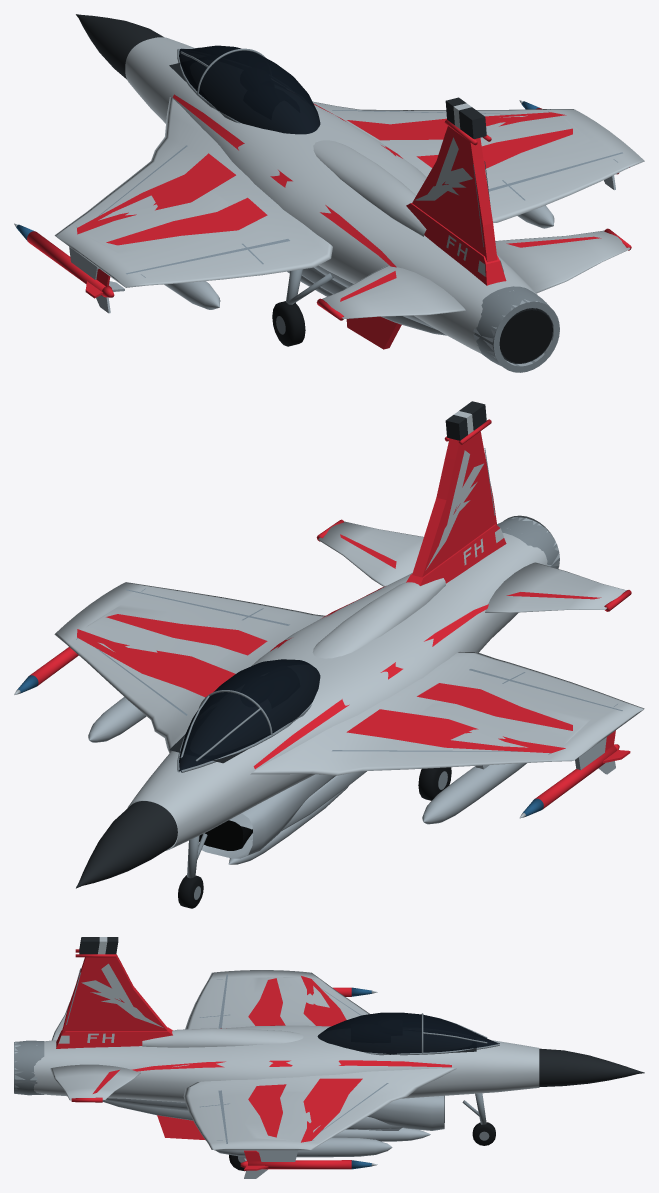
File: fighter.glb
The picture shows the model from 3 angles, top to bottom: view 1: azimuth 30°, elevation 25°; view 2: azimuth 150°, elevation 25°; view 3: azimuth 270°, elevation 25°; orthographic projection. The views are drawn at different scales.
Parts seen in each view (by area): view 1: AC_LIVERY_BASE, AC_LIVERY_PRIMARY, AC_FIREHAWK_MARK, AC_GLASS, AC_FIREHAWK_FIN, AC_LIVERY_ACCENT, AC_METAL, AC_DARK, AC_TIRE, AC_PANEL_LINES, Gear_AC_TIRE, Gear_AC_METAL; view 2: AC_LIVERY_BASE, AC_LIVERY_PRIMARY, AC_LIVERY_ACCENT, AC_FIREHAWK_MARK, AC_GLASS, AC_FIREHAWK_FIN, AC_DARK, AC_METAL, Gear_AC_TIRE, AC_PANEL_LINES, AC_INLET_VOID, Gear_AC_METAL; view 3: AC_LIVERY_BASE, AC_LIVERY_PRIMARY, AC_LIVERY_ACCENT, AC_FIREHAWK_FIN, AC_FIREHAWK_MARK, AC_GLASS, AC_DARK, AC_METAL, AC_PANEL_LINES, Gear_AC_TIRE, Gear_AC_METAL.
Part boxes in pixels (box(x1,y1,x2,y2)): AC_LIVERY_BASE: box(14, 37, 644, 353); AC_LIVERY_PRIMARY: box(27, 94, 631, 349); AC_FIREHAWK_MARK: box(83, 103, 590, 276); AC_GLASS: box(179, 45, 320, 134); AC_FIREHAWK_FIN: box(406, 126, 506, 285); AC_LIVERY_ACCENT: box(69, 175, 615, 366); AC_METAL: box(177, 47, 559, 372); AC_DARK: box(76, 14, 552, 363); AC_TIRE: box(499, 310, 552, 363); AC_PANEL_LINES: box(76, 110, 622, 277); Gear_AC_TIRE: box(272, 301, 305, 346); Gear_AC_METAL: box(276, 269, 333, 334); AC_LIVERY_BASE: box(14, 521, 644, 850); AC_LIVERY_PRIMARY: box(29, 419, 631, 808); AC_LIVERY_ACCENT: box(88, 517, 615, 864); AC_FIREHAWK_MARK: box(83, 411, 590, 747); AC_GLASS: box(178, 659, 320, 772); AC_FIREHAWK_FIN: box(406, 431, 506, 585); AC_DARK: box(76, 401, 486, 888); AC_METAL: box(177, 515, 559, 833); Gear_AC_TIRE: box(178, 767, 451, 908); AC_PANEL_LINES: box(76, 448, 622, 754); AC_INLET_VOID: box(199, 820, 252, 850); Gear_AC_METAL: box(187, 771, 447, 899); AC_LIVERY_BASE: box(34, 970, 539, 1166); AC_LIVERY_PRIMARY: box(71, 949, 451, 1170); AC_LIVERY_ACCENT: box(14, 1041, 444, 1178); AC_FIREHAWK_FIN: box(56, 954, 172, 1048); AC_FIREHAWK_MARK: box(58, 937, 329, 1140); AC_GLASS: box(317, 1012, 498, 1054); AC_DARK: box(79, 937, 644, 1086); AC_METAL: box(14, 1013, 499, 1130); AC_PANEL_LINES: box(66, 968, 388, 1143); Gear_AC_TIRE: box(229, 1122, 495, 1171); Gear_AC_METAL: box(238, 1093, 489, 1162).
Size of the model in its own units: 6.31 by 3.3 by 9.19.
